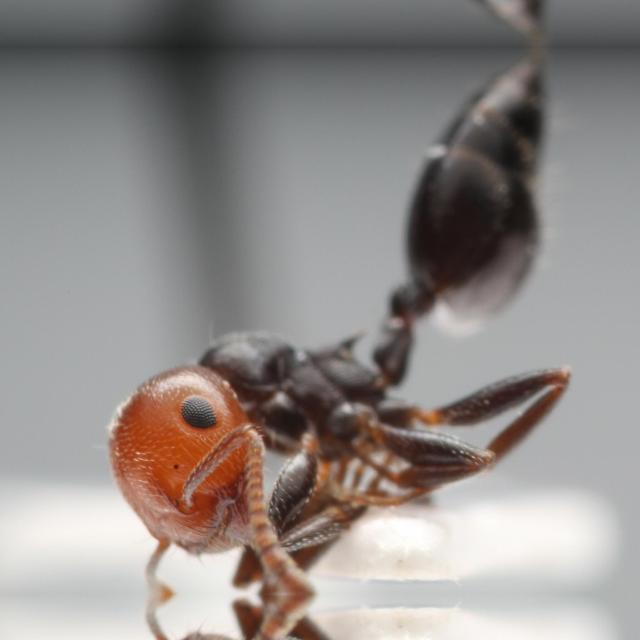Crematogaster: (90, 45, 614, 592)
